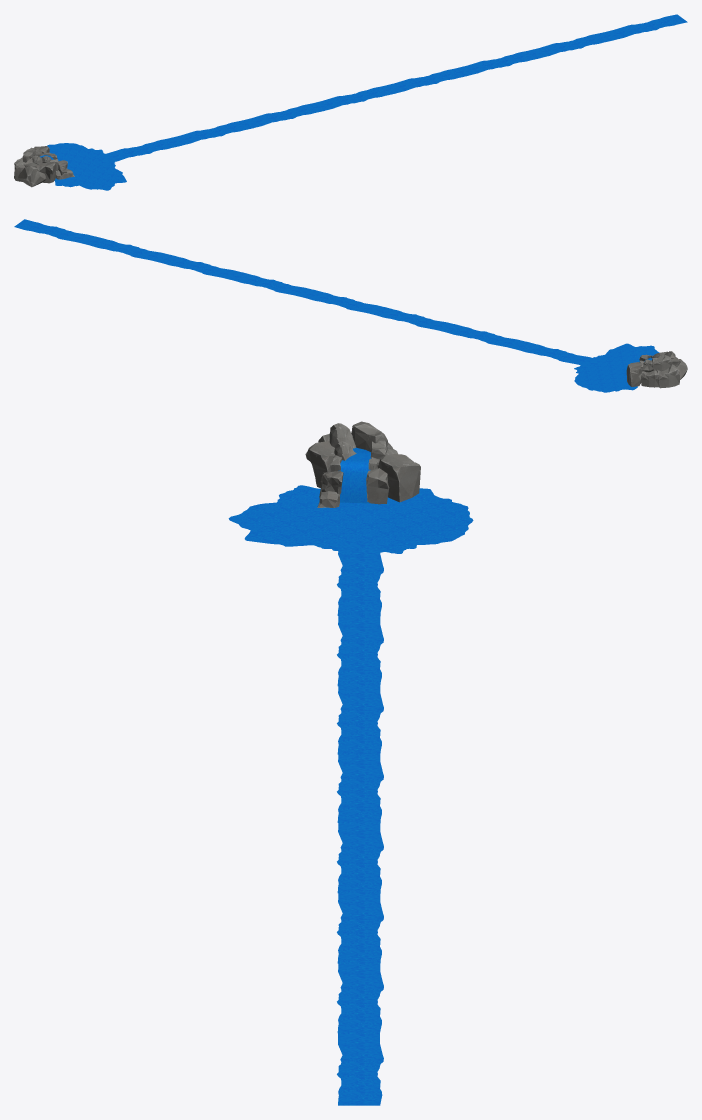
Rendered from waterfall.glb.
The picture shows the model from 3 angles, top to bottom: view 1: azimuth 30°, elevation 25°; view 2: azimuth 150°, elevation 25°; view 3: azimuth 270°, elevation 25°; orthographic projection. The views are drawn at different scales.
Parts seen in each view (by area): view 1: main river, WaterFall; view 2: main river, WaterFall; view 3: main river, WaterFall.
Part boxes in pixels (left/top/right/bottom): main river: left=95, top=14, right=687, bottom=163; WaterFall: left=14, top=143, right=126, bottom=190; main river: left=14, top=219, right=600, bottom=367; WaterFall: left=574, top=343, right=687, bottom=392; main river: left=337, top=542, right=383, bottom=1105; WaterFall: left=228, top=421, right=473, bottom=553.
Size of the model in its own units: 44.14 by 1.64 by 7.08.
4 materials, 4 textured.
